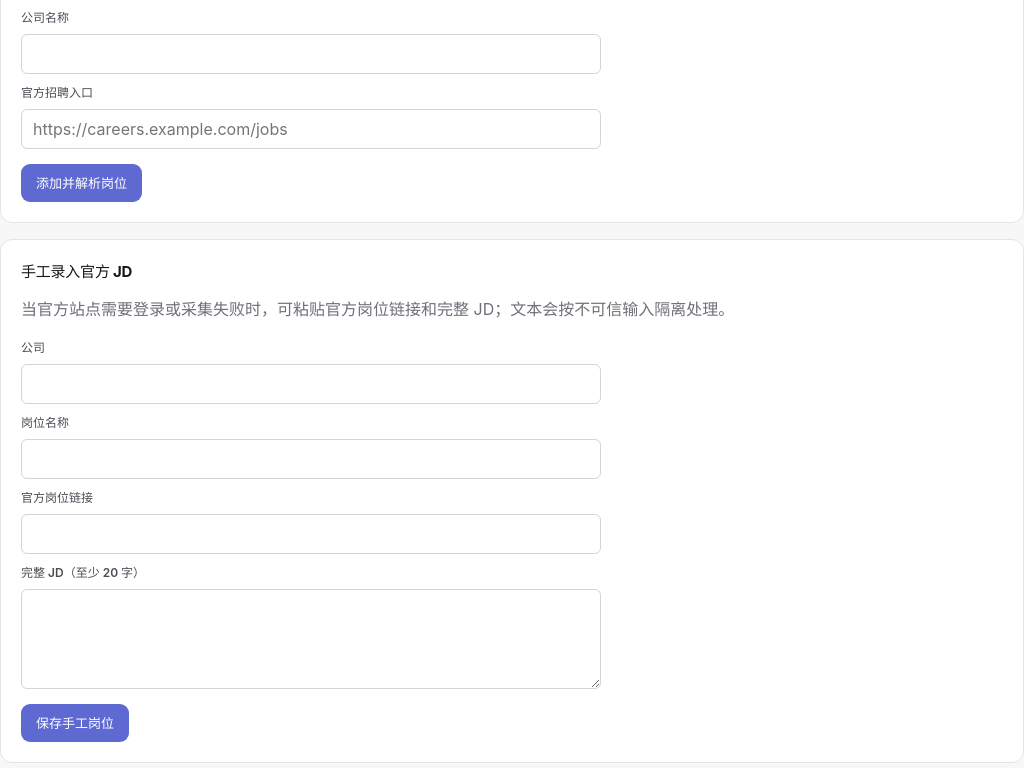
Test: 关键页面交互 › 来源失败时可手工保存官方 JD
(page scrolled)
Type "虚构科技" into the field labelled "公司" at [311, 384], box [21,364,601,404]
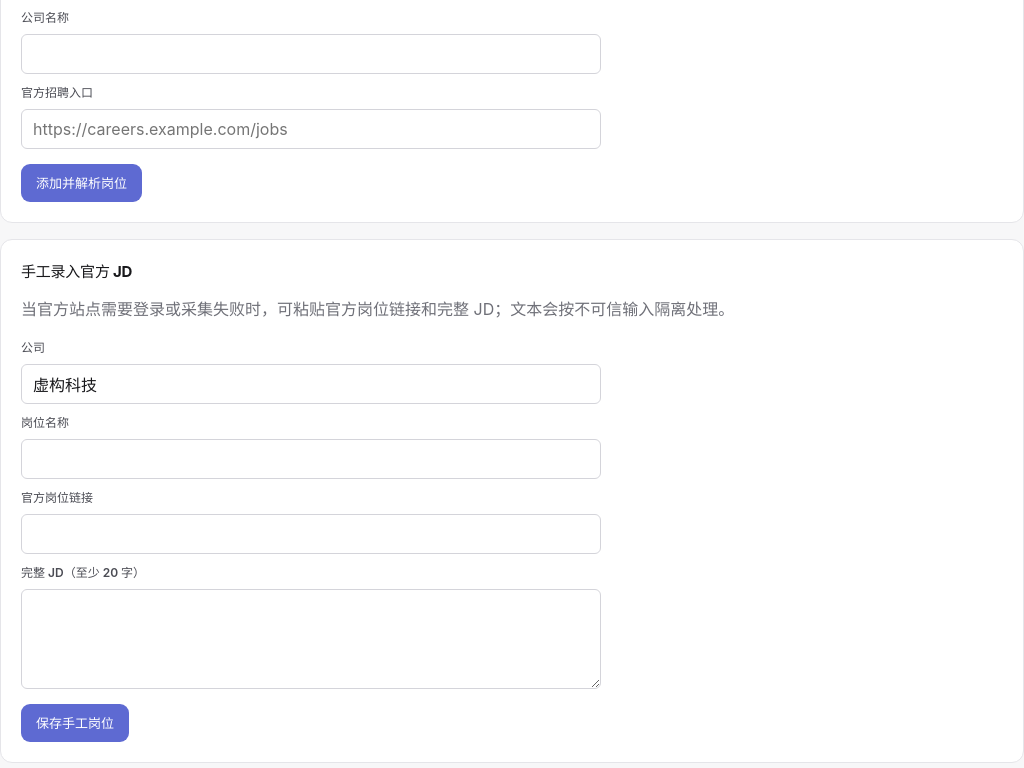
Type "AI 后端工程师" into the field labelled "岗位名称" at [311, 459], box [21,439,601,479]
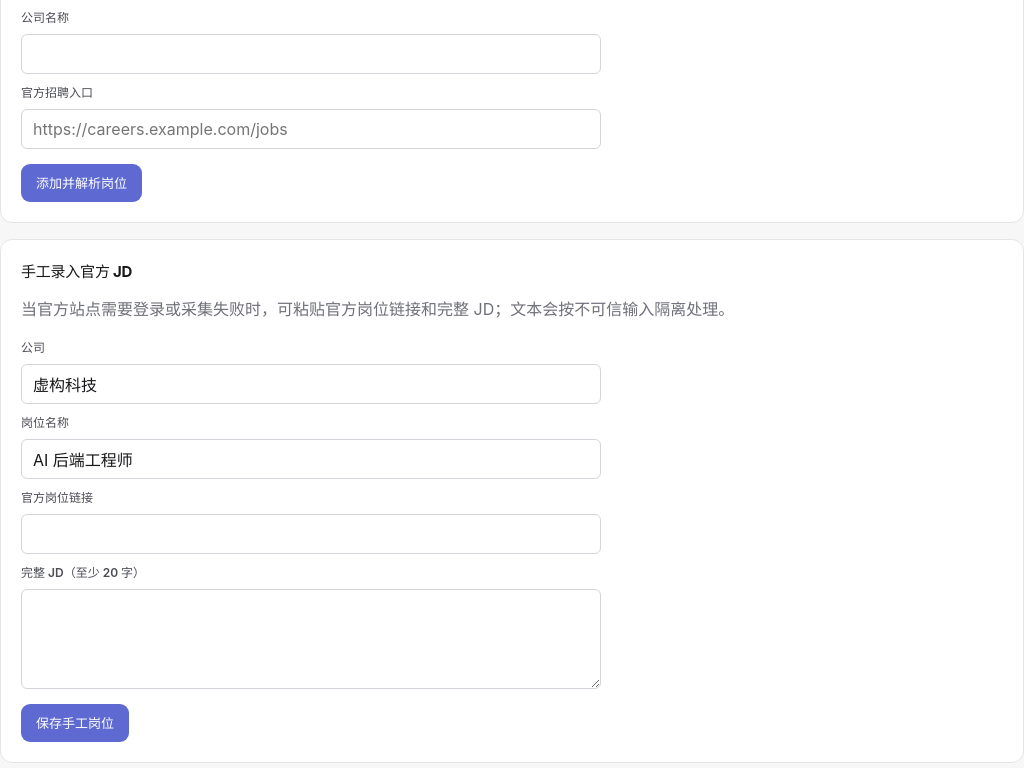
Type "https://example.invalid/jobs/9" into the field labelled "官方岗位链接" at [311, 534], box [21,514,601,554]
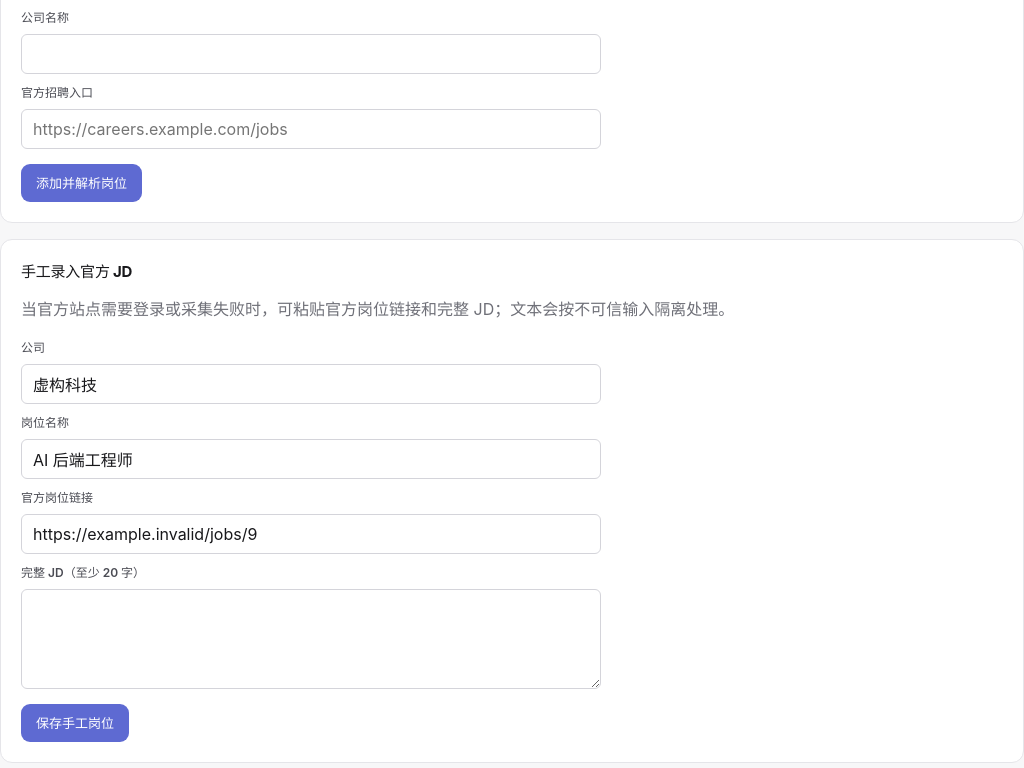
Type "负责使用 Python 构建完整的 RAG 服务和评估流水线。" into the text box labelled "完整 JD（至少 20 字）" at [311, 639], box [21,589,601,689]
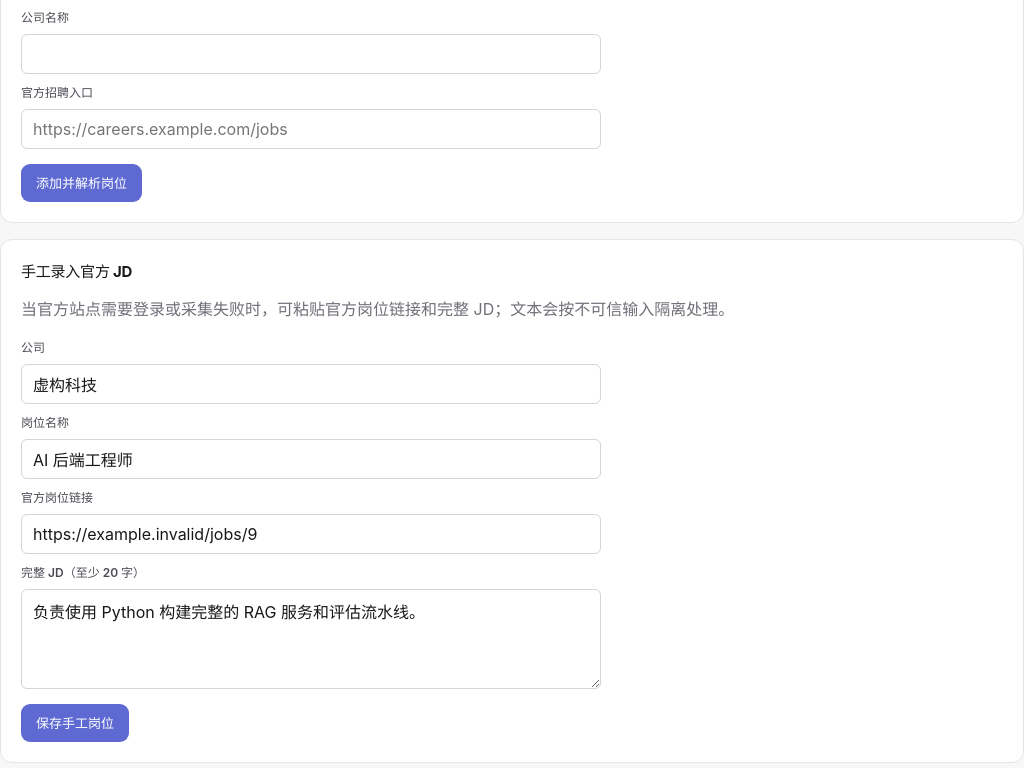
Click the button "保存手工岗位" at [75, 723], box [21,704,129,742]
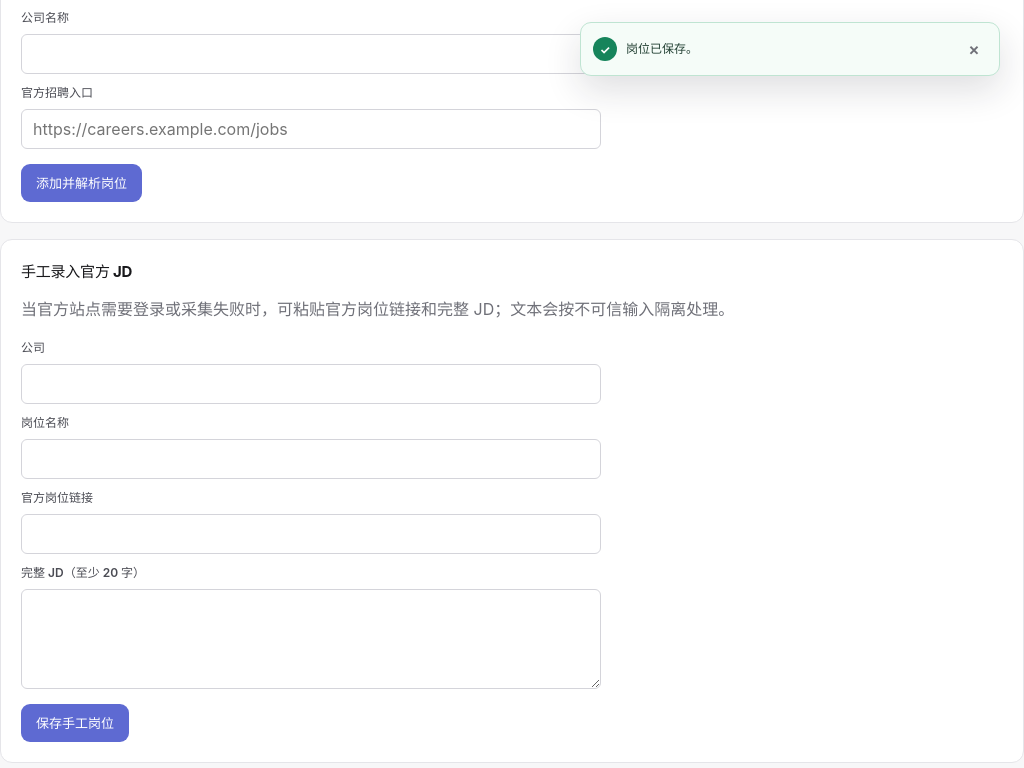
Now the text "岗位已保存。" is shown, box [626,41,698,56]
